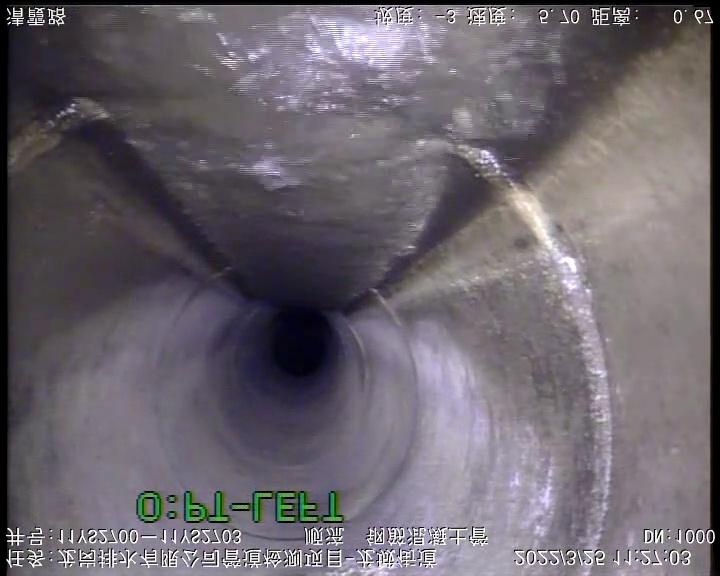CKTJ: (454, 145, 612, 540)
